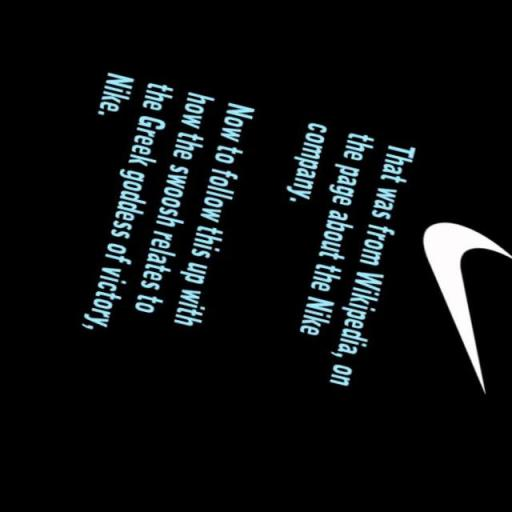Nike: (385, 212, 512, 393)
